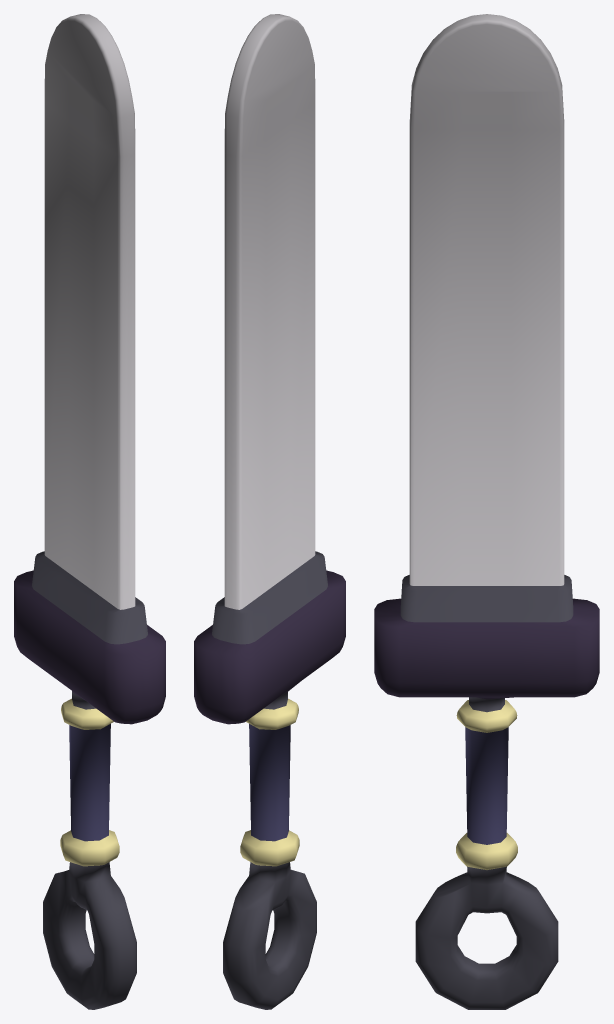
The model's file is sword.fbx.
3 renders of one model, left to right at view 1: azimuth 30°, elevation 25°; view 2: azimuth 150°, elevation 25°; view 3: azimuth 270°, elevation 25°, orthographic.
Parts seen in each view (by area): view 1: Cube; view 2: Cube; view 3: Cube.
Boxes of the visible parts, left/top/right/bottom form: Cube: left=14, top=14, right=165, bottom=1009; Cube: left=194, top=14, right=345, bottom=1009; Cube: left=374, top=14, right=599, bottom=1009.
Bounding box in the file's own units: 70.1 × 234 × 1132.
